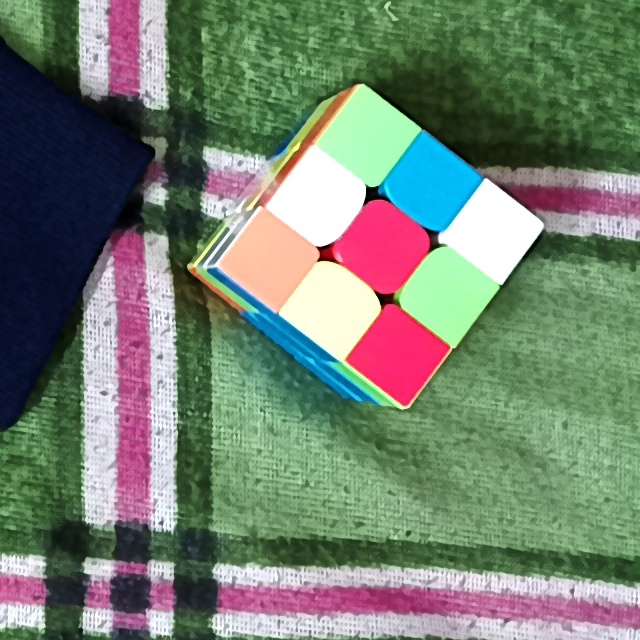tile: (247, 231, 299, 285), (296, 170, 347, 225), (374, 327, 424, 381), (362, 220, 410, 276), (425, 268, 478, 318), (413, 156, 459, 210), (310, 284, 358, 335), (475, 204, 521, 253), (345, 112, 396, 156)
